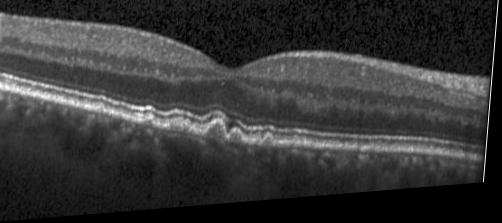retinal_drusen: (205, 125, 229, 145), (232, 133, 246, 148), (171, 125, 184, 136), (185, 125, 196, 137), (265, 141, 275, 152), (144, 121, 156, 130)
